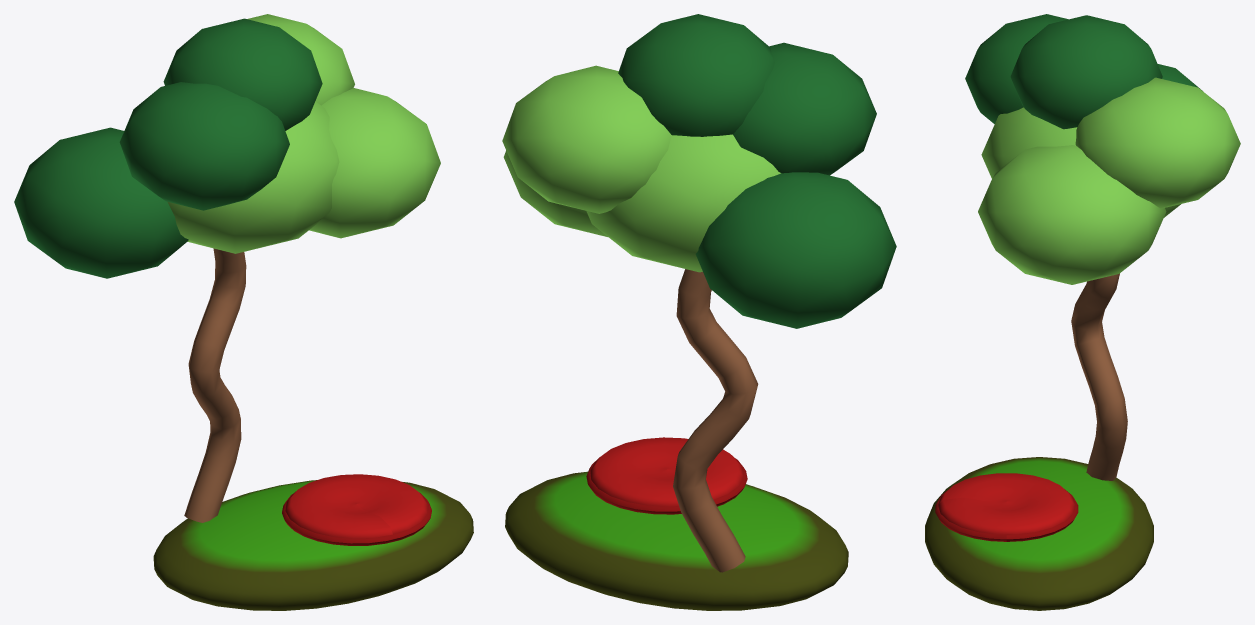
The model's file is tree.glb.
3 renders of one model, left to right at view 1: azimuth 30°, elevation 25°; view 2: azimuth 150°, elevation 25°; view 3: azimuth 270°, elevation 25°, orthographic. The views are drawn at different scales.
Parts seen in each view (by area): view 1: island:islandVC, foliage_1_mesh:leafDark, foliage_3_mesh:leafDark, foliage_2_mesh:leafLight, foliage_0_mesh:leafLight, foliage_5_mesh:leafDark, trunk:trunk, cushion:cushionVC, foliage_4_mesh:leafLight; view 2: island:islandVC, foliage_1_mesh:leafDark, foliage_4_mesh:leafLight, foliage_5_mesh:leafDark, foliage_3_mesh:leafDark, foliage_0_mesh:leafLight, trunk:trunk, cushion:cushionVC, foliage_2_mesh:leafLight; view 3: island:islandVC, foliage_2_mesh:leafLight, foliage_4_mesh:leafLight, foliage_5_mesh:leafDark, cushion:cushionVC, trunk:trunk, foliage_3_mesh:leafDark, foliage_0_mesh:leafLight.
Boxes of the visible parts, box(x1,y1,x2,y2) form: island:islandVC: box(153, 480, 473, 610); foliage_1_mesh:leafDark: box(14, 127, 188, 278); foliage_3_mesh:leafDark: box(119, 82, 289, 210); foliage_2_mesh:leafLight: box(309, 88, 440, 238); foliage_0_mesh:leafLight: box(167, 101, 339, 253); foliage_5_mesh:leafDark: box(163, 18, 322, 130); trunk:trunk: box(184, 248, 246, 522); cushion:cushionVC: box(282, 474, 431, 545); foliage_4_mesh:leafLight: box(247, 14, 354, 105); island:islandVC: box(505, 471, 848, 610); foliage_1_mesh:leafDark: box(695, 172, 896, 328); foliage_4_mesh:leafLight: box(502, 65, 671, 213); foliage_5_mesh:leafDark: box(618, 14, 774, 136); foliage_3_mesh:leafDark: box(733, 42, 876, 175); foliage_0_mesh:leafLight: box(586, 134, 780, 272); trunk:trunk: box(673, 269, 758, 572); cushion:cushionVC: box(586, 437, 747, 514); foliage_2_mesh:leafLight: box(503, 150, 607, 236); island:islandVC: box(925, 457, 1153, 610); foliage_2_mesh:leafLight: box(978, 145, 1166, 284); foliage_4_mesh:leafLight: box(1075, 77, 1240, 208); foliage_5_mesh:leafDark: box(1010, 15, 1162, 129); cushion:cushionVC: box(935, 473, 1078, 541); trunk:trunk: box(1071, 273, 1127, 480); foliage_3_mesh:leafDark: box(965, 14, 1068, 123); foliage_0_mesh:leafLight: box(981, 107, 1180, 217).
Size of the model in its own units: 2.37 by 3.17 by 1.74.
